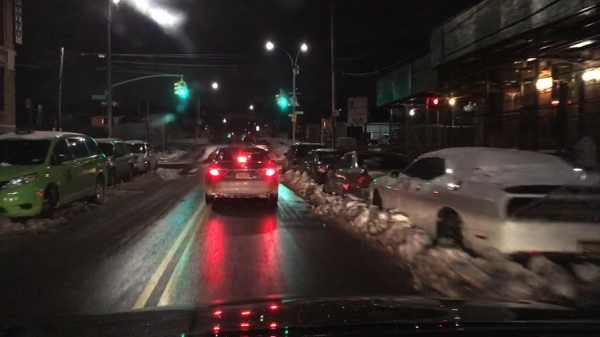car: (368, 148, 599, 264), (0, 130, 110, 221), (204, 143, 279, 206), (323, 151, 411, 198), (92, 137, 133, 184), (296, 148, 348, 184), (282, 143, 327, 172), (124, 141, 158, 175), (250, 140, 270, 152)
person: (572, 131, 597, 172)
traffic light: (91, 116, 105, 127), (273, 95, 281, 110), (179, 80, 186, 96), (426, 97, 438, 106), (281, 94, 287, 108), (174, 82, 178, 96), (322, 121, 328, 128)
traffic sign: (91, 95, 108, 100), (101, 102, 120, 106), (331, 109, 338, 117), (295, 111, 305, 115), (291, 116, 296, 123)
